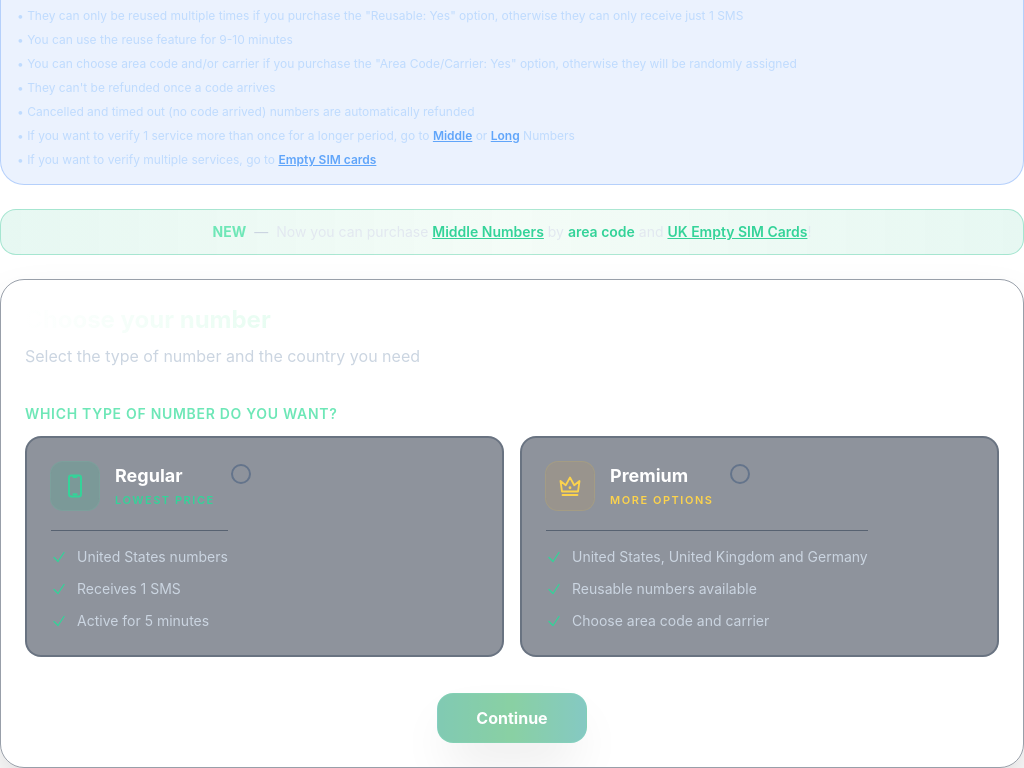
it: choosing the type of number › premium numbers keep every country
(page scrolled)
Click the radio button that starts with "Premium" at point(760, 546), box [520,436,999,657]
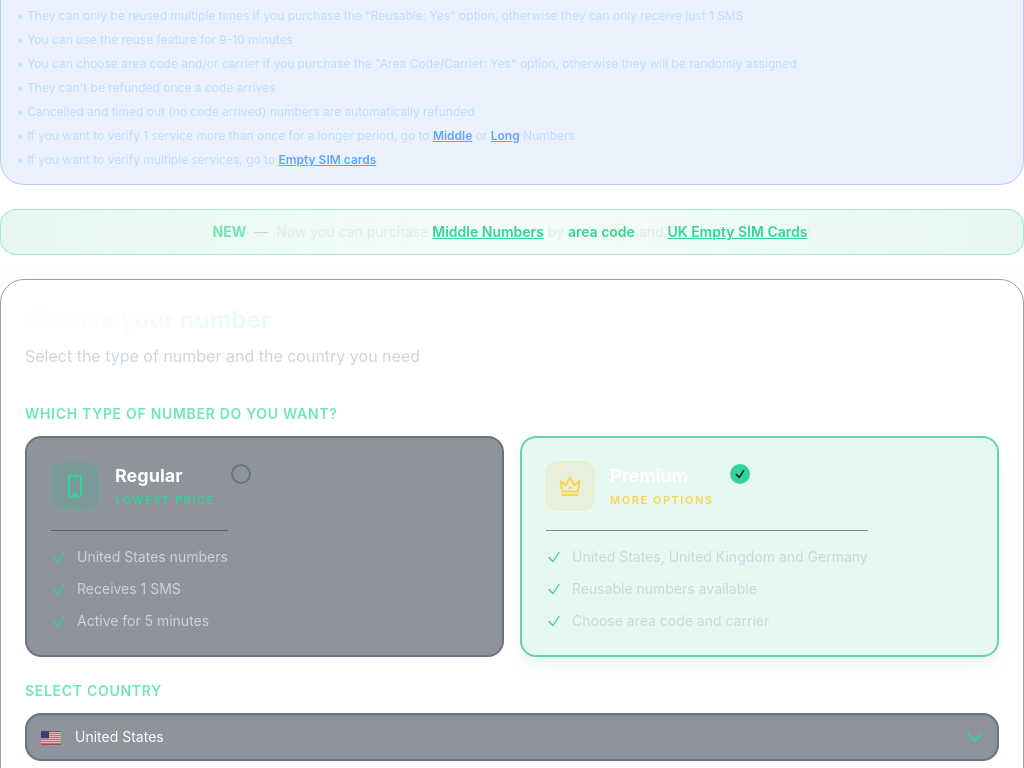
Click the text "United States" at point(119, 737), box [75,727,164,747]
(page scrolled)
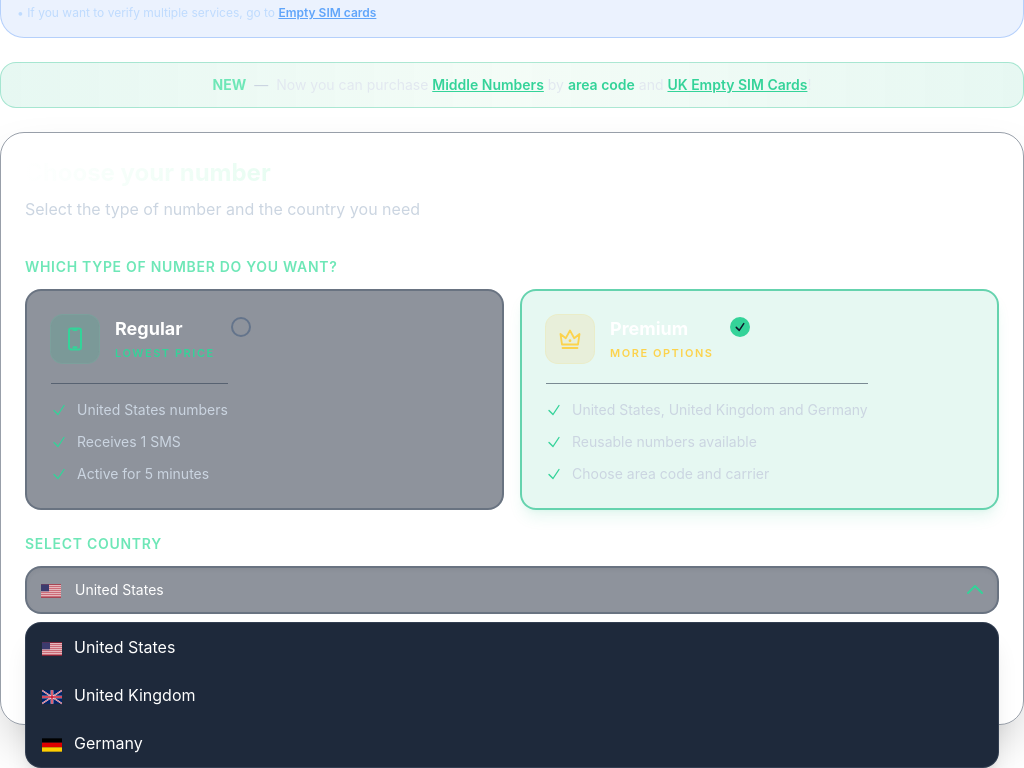
Expected: the text "United Kingdom" is shown, [74,683,196,707]
Expected: the text "Germany" is shown, [74,731,143,755]
